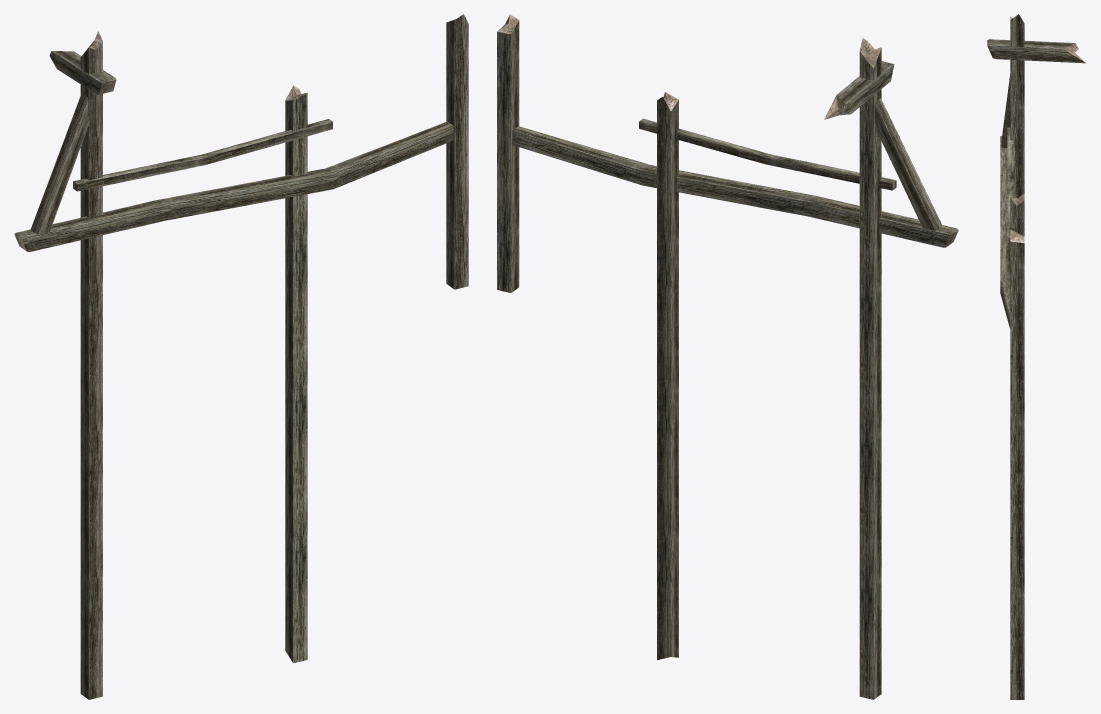
The model's file is TW2_1_HUT_02_8-transformed.glb.
The picture shows the model from 3 angles, left to right: view 1: azimuth 30°, elevation 25°; view 2: azimuth 150°, elevation 25°; view 3: azimuth 270°, elevation 25°; orthographic projection. The views are drawn at different scales.
Visible parts, largest first — view 1: default; view 2: default; view 3: default.
Boxes of the visible parts, <box> form: default: <box>14,14,468,699</box>; default: <box>497,14,958,699</box>; default: <box>987,14,1085,699</box>.
Size of the model in its own units: 8.31 by 11.85 by 1.78.
2 materials, 2 textured.
